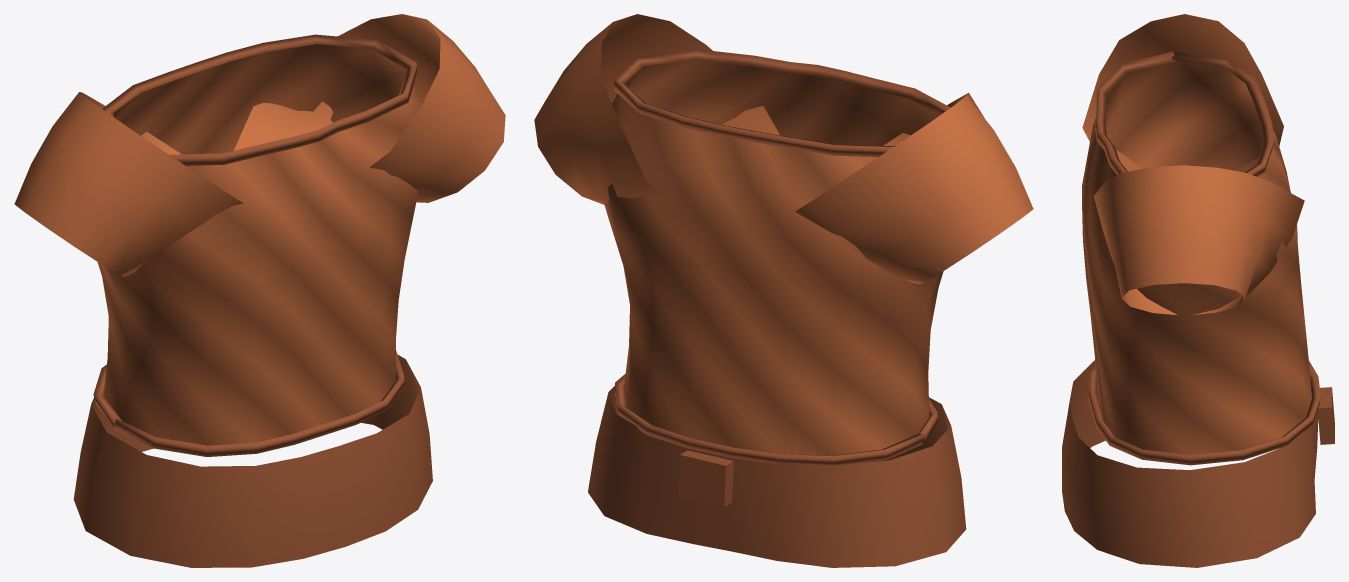
File: copper_chainmail.glb
The picture shows the model from 3 angles, left to right: view 1: azimuth 30°, elevation 25°; view 2: azimuth 150°, elevation 25°; view 3: azimuth 270°, elevation 25°; orthographic projection. The views are drawn at different scales.
Visible parts, largest first — view 1: copper_chainmail_chest; view 2: copper_chainmail_chest; view 3: copper_chainmail_chest.
Boxes of the visible parts, x1=… form: copper_chainmail_chest: x1=14, y1=14, x2=505, y2=567; copper_chainmail_chest: x1=534, y1=14, x2=1033, y2=567; copper_chainmail_chest: x1=1062, y1=14, x2=1334, y2=567.
Size of the model in its own units: 0.6233 by 0.5645 by 0.3387.
